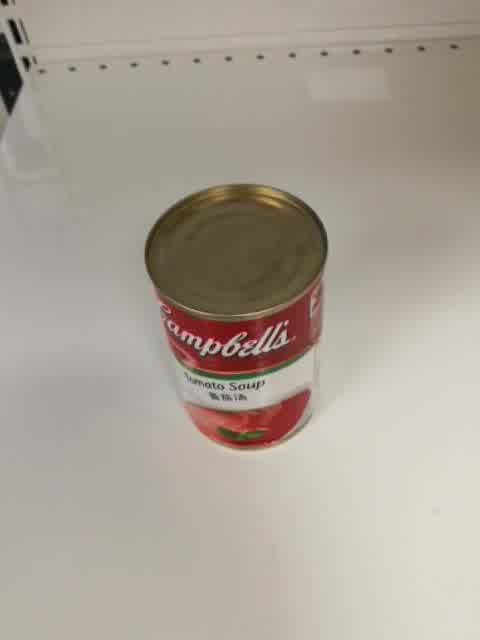tomatosoup: (141, 182, 329, 452)
